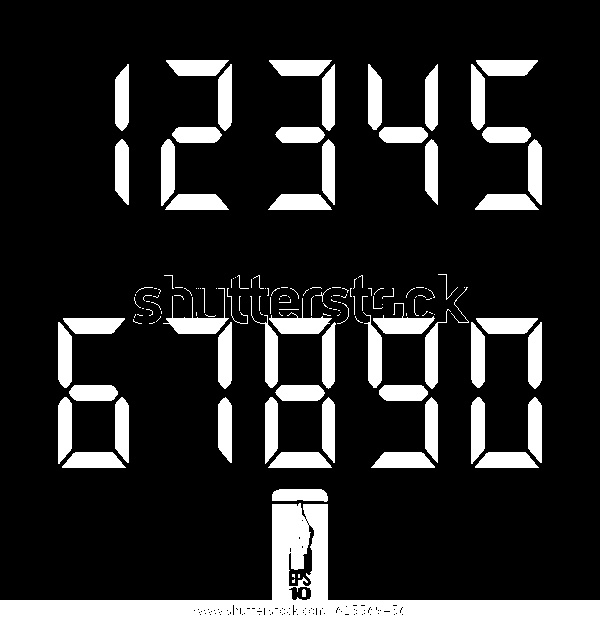eight: (265, 318, 335, 468)
five: (470, 59, 544, 212)
four: (368, 62, 438, 203)
nine: (369, 318, 439, 466)
one: (114, 64, 131, 207)
seven: (163, 318, 232, 461)
six: (57, 319, 130, 469)
three: (268, 59, 336, 212)
two: (161, 58, 233, 212)
zero: (470, 318, 543, 468)
